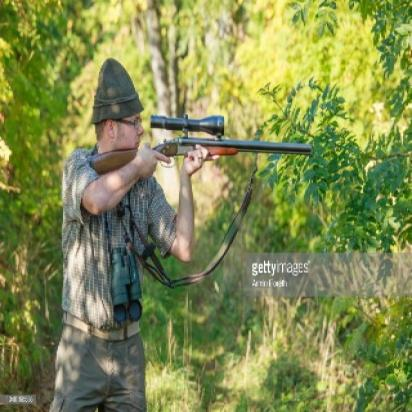Gun: (83, 112, 320, 181)
